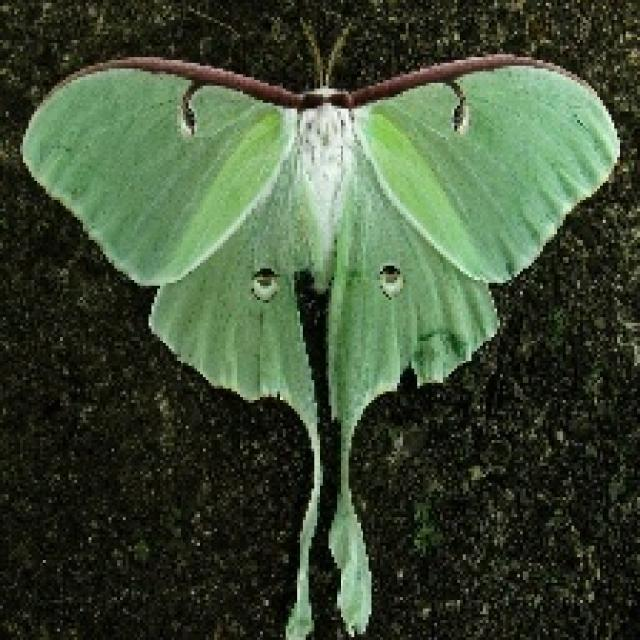butterfly: (17, 17, 620, 637)
